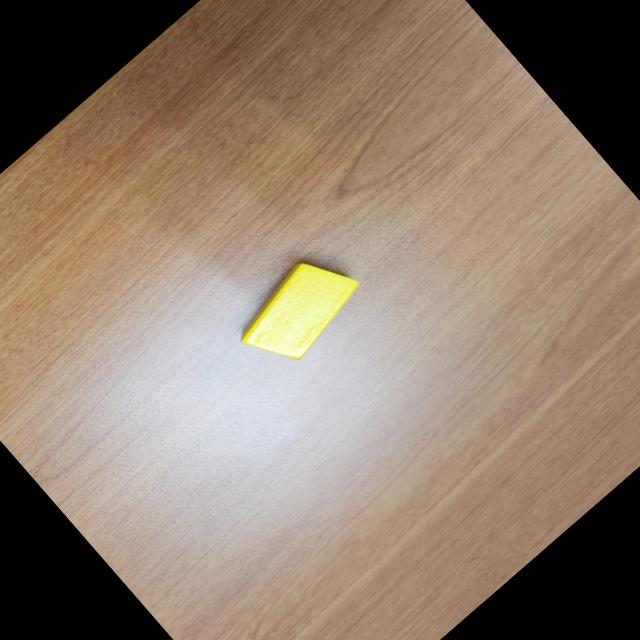yellow: (225, 237, 375, 381)
